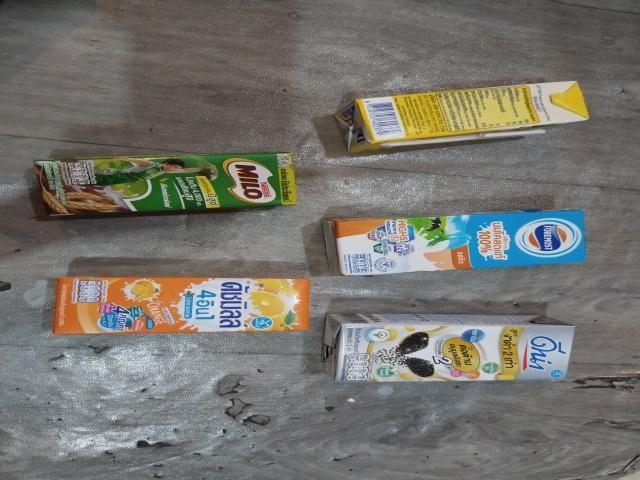drink_box: (308, 69, 605, 162), (335, 308, 584, 388), (48, 272, 320, 341), (23, 149, 301, 216), (320, 211, 600, 275)
